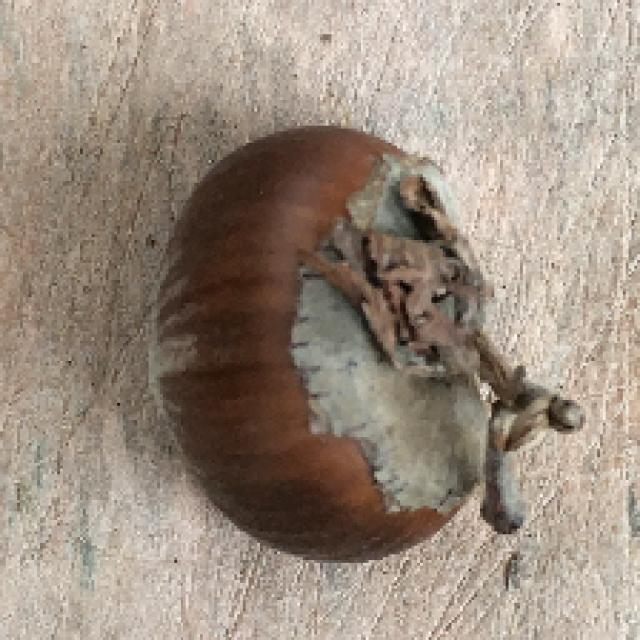damagedHazelnut: (143, 117, 530, 561)
